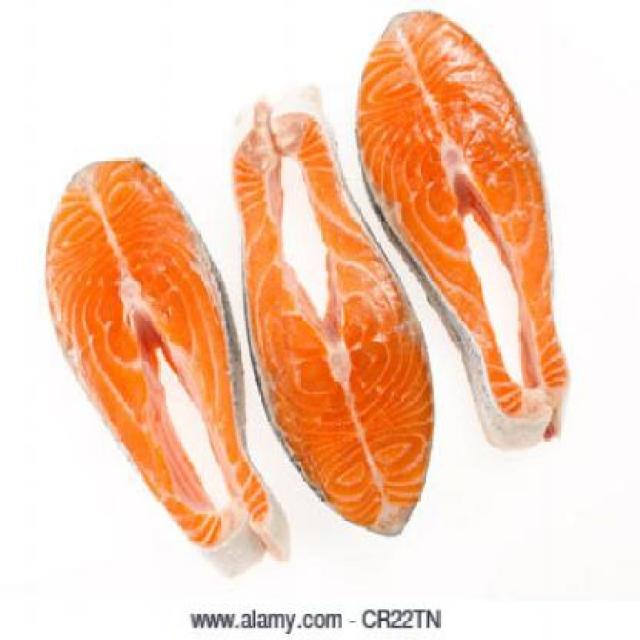salmon: (39, 110, 298, 586), (346, 9, 602, 457), (216, 74, 452, 544)
